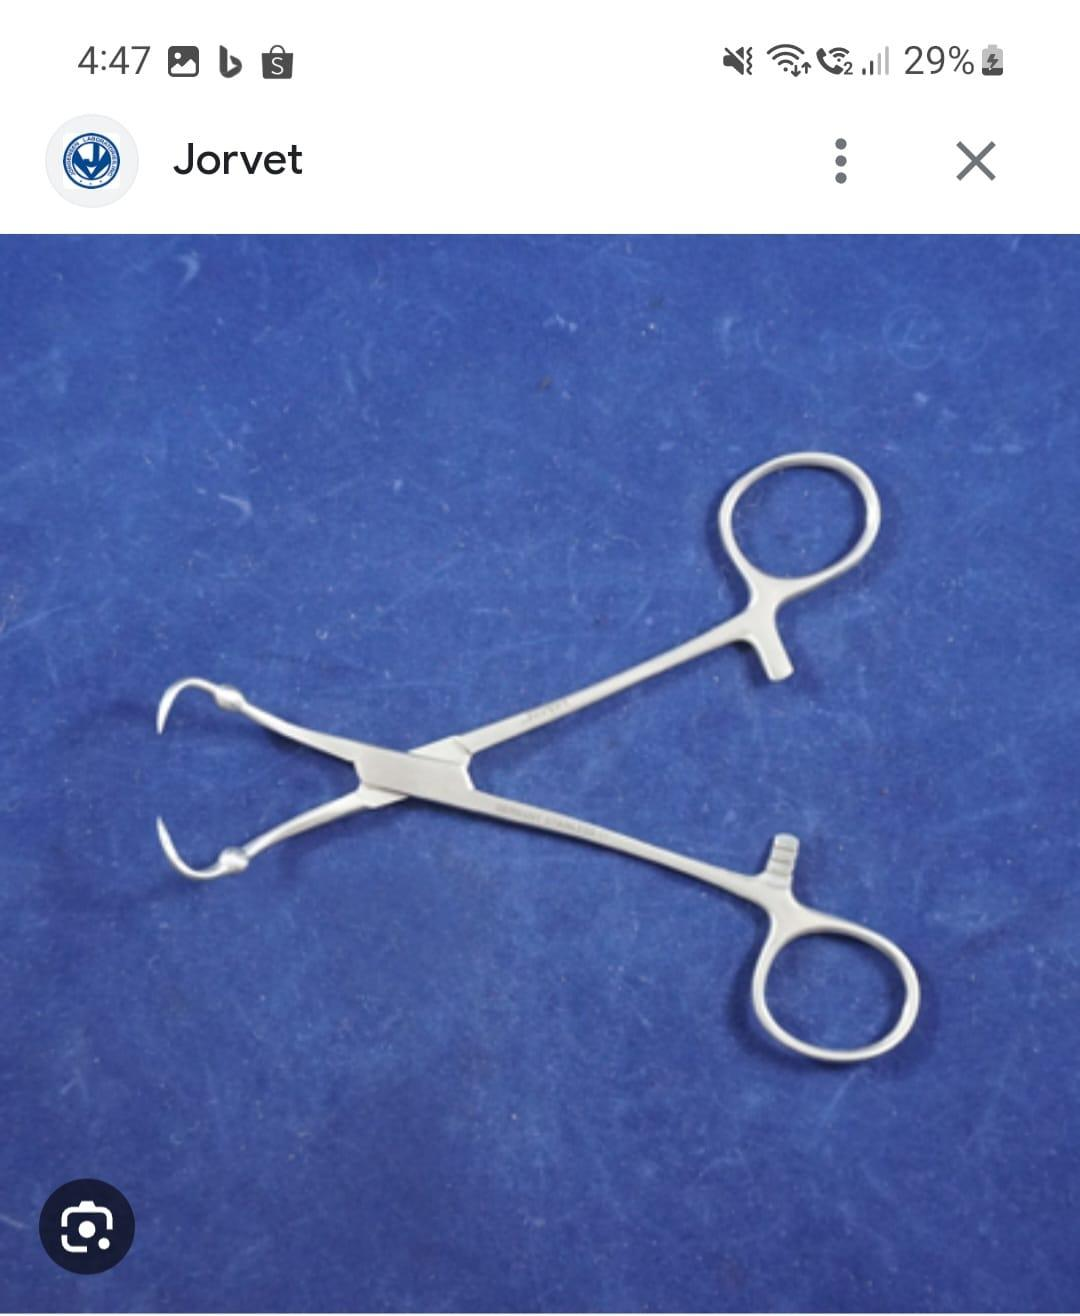Backhaus: (134, 398, 930, 1092)
